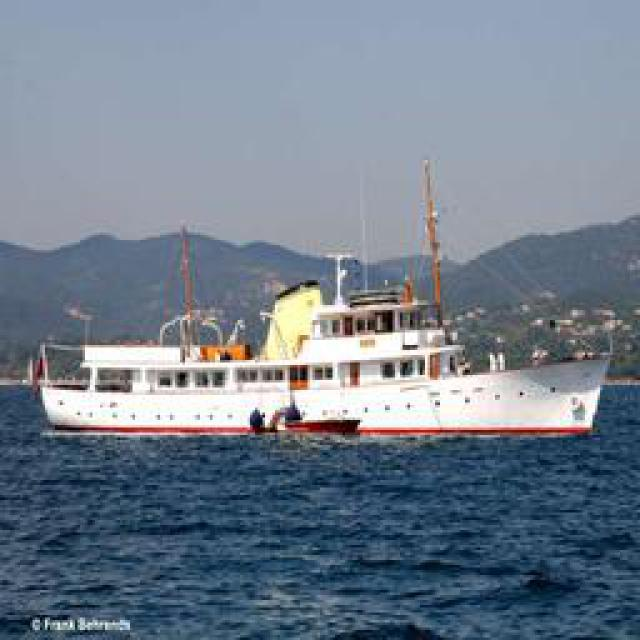Ship: (27, 222, 620, 445)
